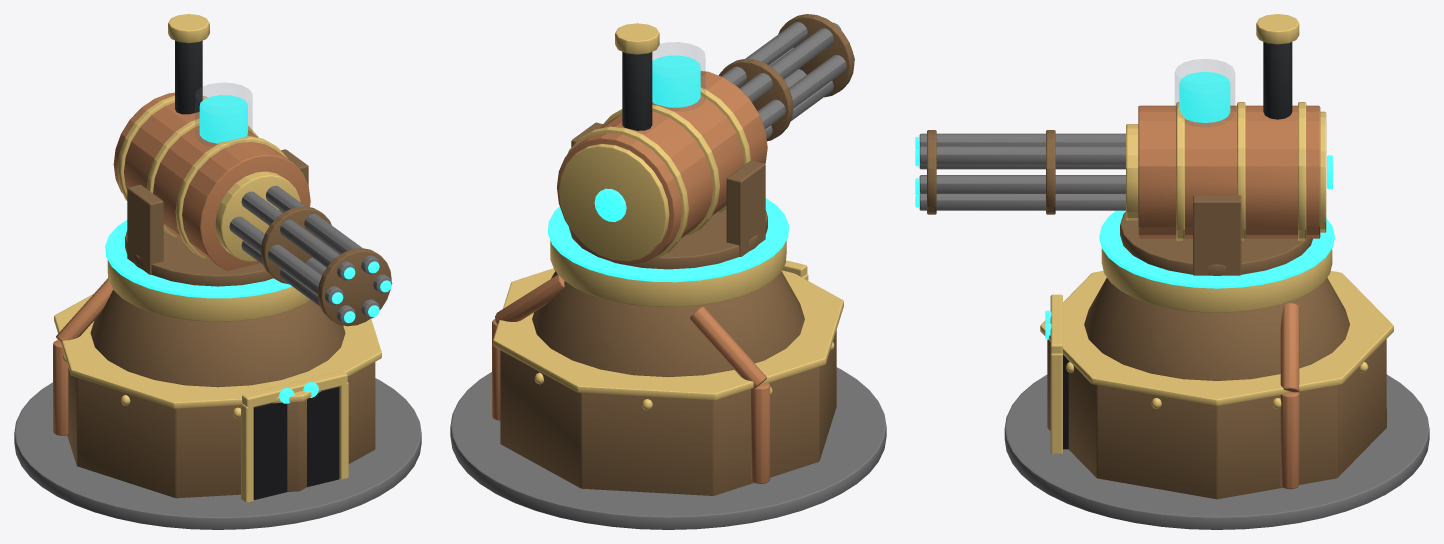
Rendered from GooGun_T2_Pepperbox.glb.
3 renders of one model, left to right at view 1: azimuth 30°, elevation 25°; view 2: azimuth 150°, elevation 25°; view 3: azimuth 270°, elevation 25°, orthographic. The views are drawn at different scales.
Visible parts, largest first — view 1: GooGun_T2_Pepperbox_Base, GooGun_T2_Pepperbox_Turret; view 2: GooGun_T2_Pepperbox_Base, GooGun_T2_Pepperbox_Turret; view 3: GooGun_T2_Pepperbox_Base, GooGun_T2_Pepperbox_Turret.
Boxes of the visible parts, x1,y1,x2,y2 form: GooGun_T2_Pepperbox_Base: (14, 220, 421, 529); GooGun_T2_Pepperbox_Turret: (113, 14, 392, 326); GooGun_T2_Pepperbox_Base: (450, 198, 886, 529); GooGun_T2_Pepperbox_Turret: (557, 14, 854, 269); GooGun_T2_Pepperbox_Base: (1004, 210, 1429, 529); GooGun_T2_Pepperbox_Turret: (915, 14, 1332, 275).
Size of the model in its own units: 3.5 by 3.8 by 4.24.
